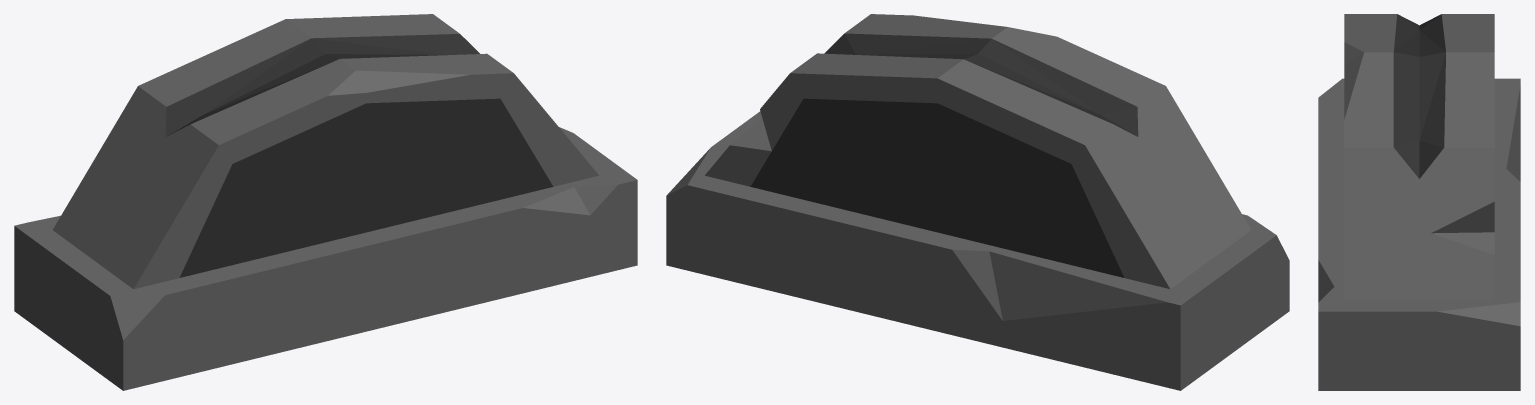
Rendered from Lever_Base.fbx.
3 renders of one model, left to right at view 1: azimuth 30°, elevation 25°; view 2: azimuth 150°, elevation 25°; view 3: azimuth 270°, elevation 25°, orthographic. The views are drawn at different scales.
Visible parts, largest first — view 1: Lever_Base; view 2: Lever_Base; view 3: Lever_Base.
Boxes of the visible parts, x1,y1,x2,y2 form: Lever_Base: (14,14,637,390); Lever_Base: (666,14,1289,390); Lever_Base: (1318,14,1520,390).
Size of the model in its own units: 361 by 160 by 132.
